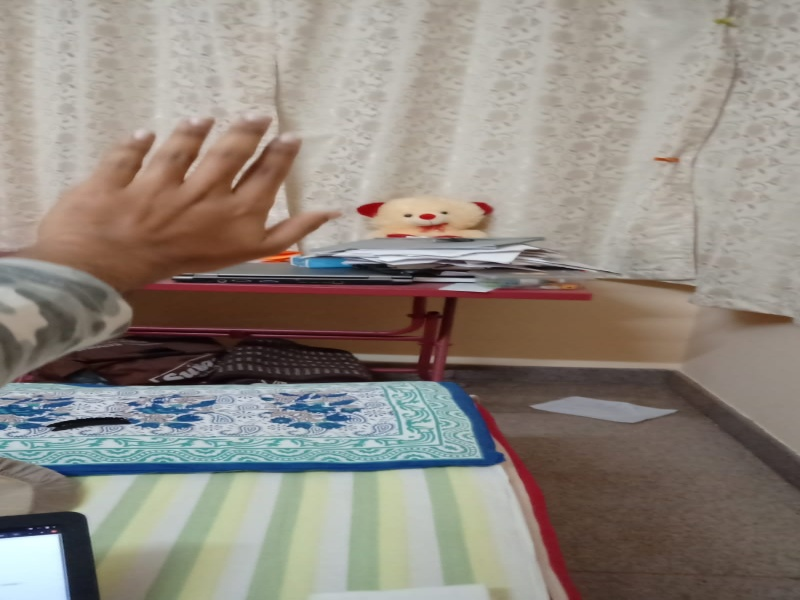Hand: (31, 105, 346, 287)
